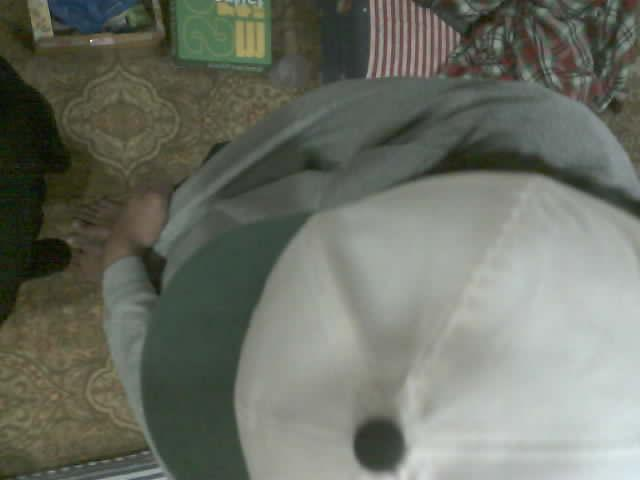cap: (140, 166, 639, 479)
